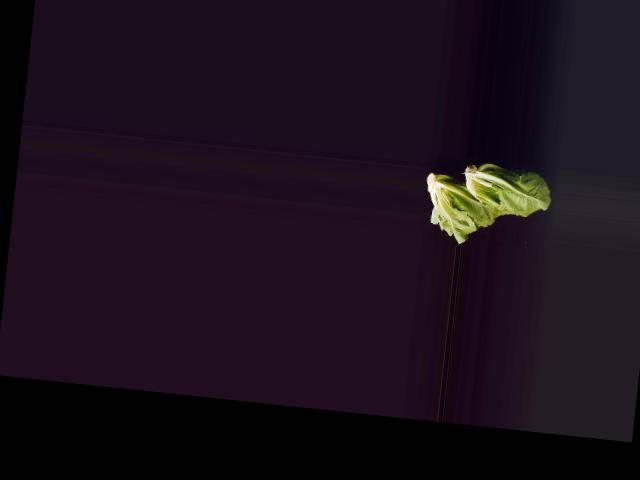lettuce: (420, 162, 515, 247)
